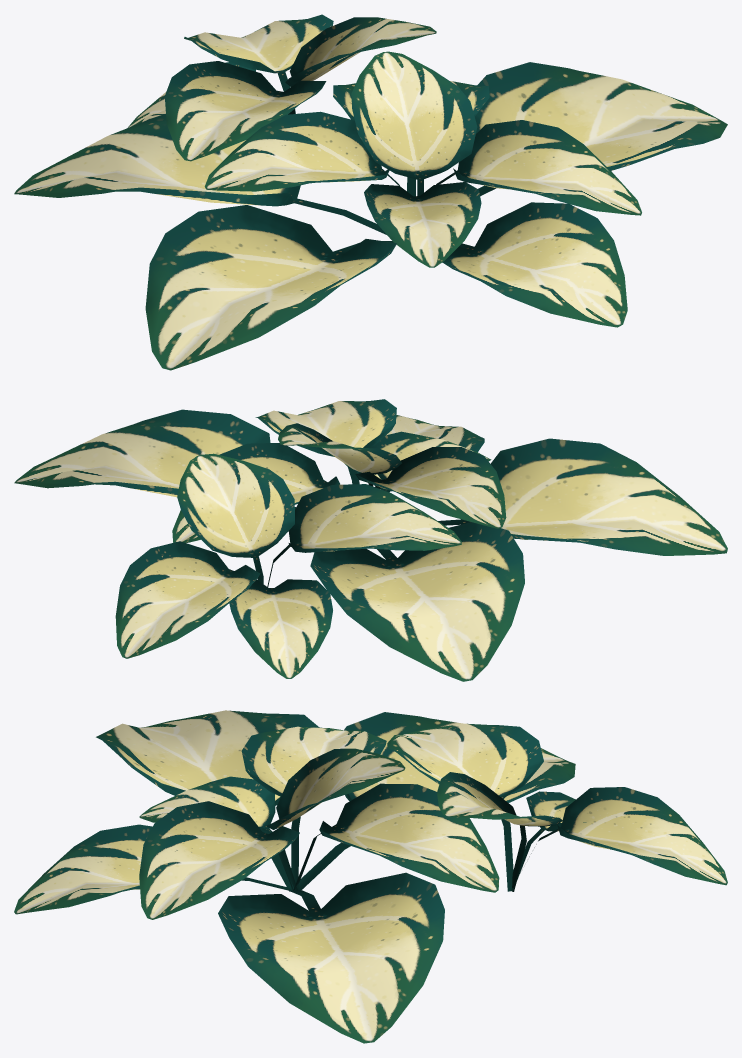
The model's file is Hosta_Y_02.fbx.
3 views of the same model, one above another, from view 1: azimuth 30°, elevation 25°; view 2: azimuth 150°, elevation 25°; view 3: azimuth 270°, elevation 25° (orthographic). The views are drawn at different scales.
Parts seen in each view (by area): view 1: Hosta_Y_02; view 2: Hosta_Y_02; view 3: Hosta_Y_02.
Boxes of the visible parts, x1,y1,x2,y2 form: Hosta_Y_02: [14, 14, 727, 370]; Hosta_Y_02: [14, 399, 727, 681]; Hosta_Y_02: [14, 710, 727, 1043].
Bounding box in the file's own units: 113 × 23.12 × 108.
